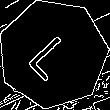L_NE: (24, 25, 82, 83)
